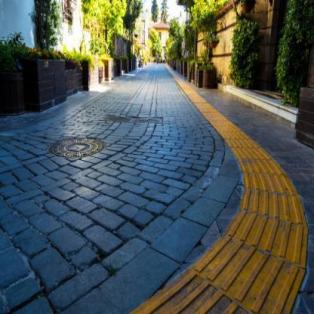Podoctatil: (128, 62, 313, 314)
